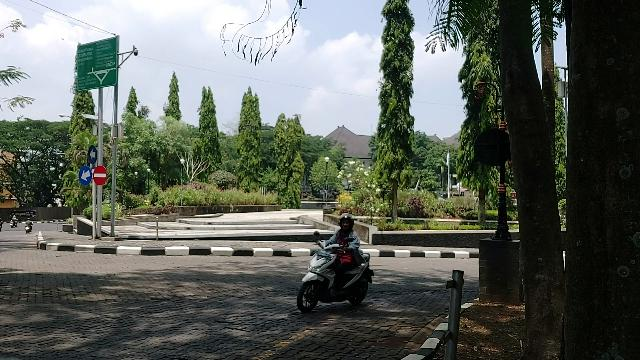helm: (339, 214, 355, 232)
motor: (299, 241, 375, 313)
